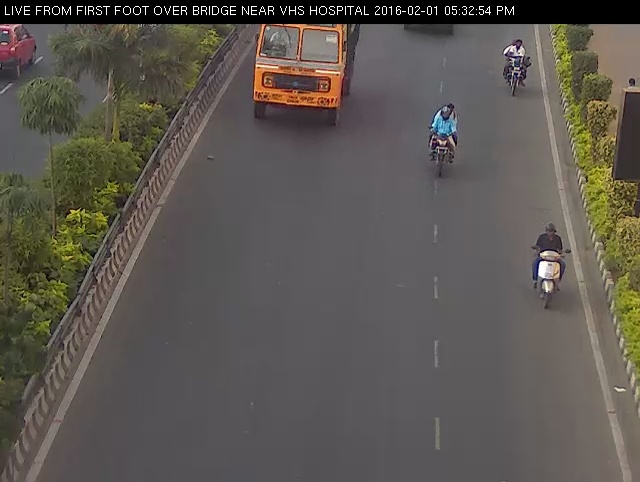Bus: (240, 16, 363, 133)
Car: (396, 19, 464, 41)
Person: (518, 208, 580, 320), (420, 94, 468, 183), (495, 30, 536, 101)
